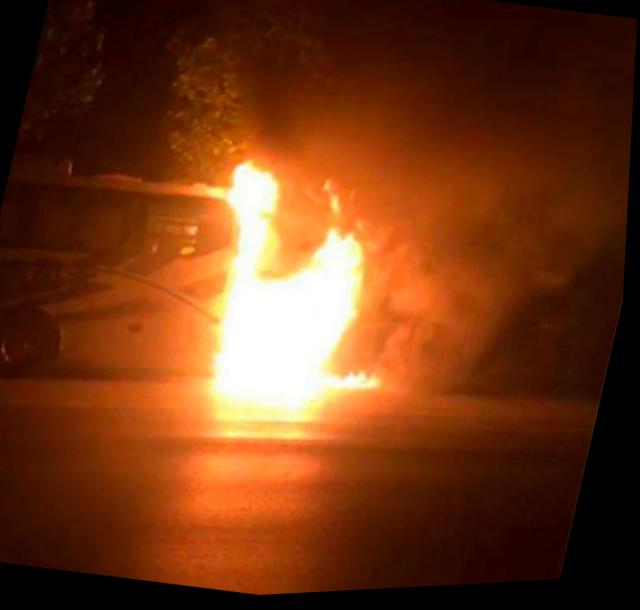fire: (184, 153, 416, 445)
